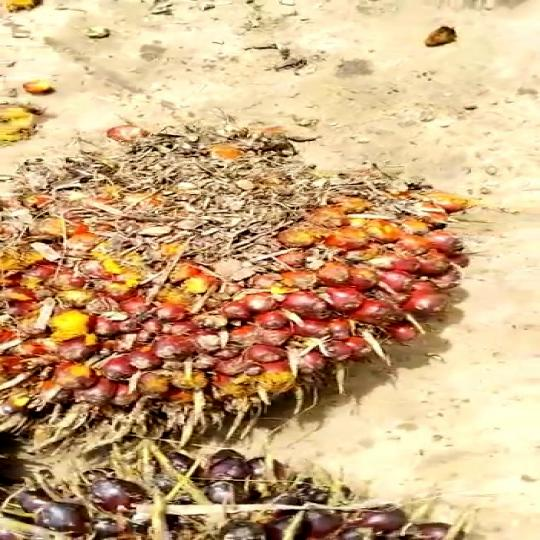masak: (0, 113, 491, 469)
